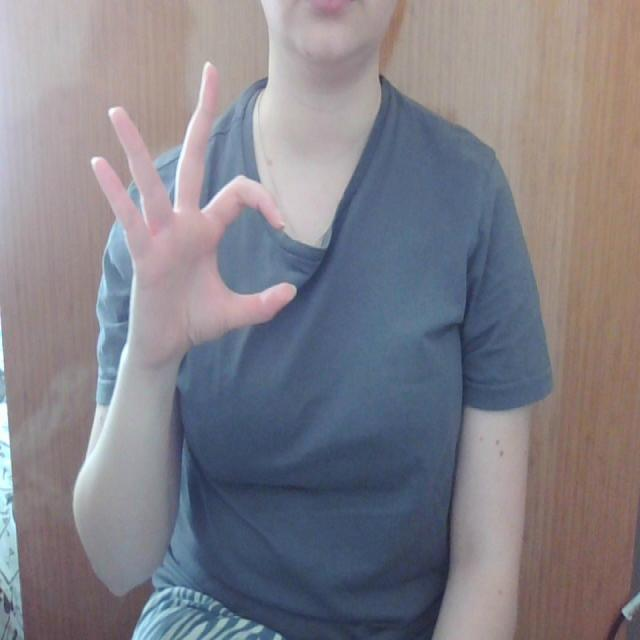Tuvalet: (84, 65, 314, 388)
